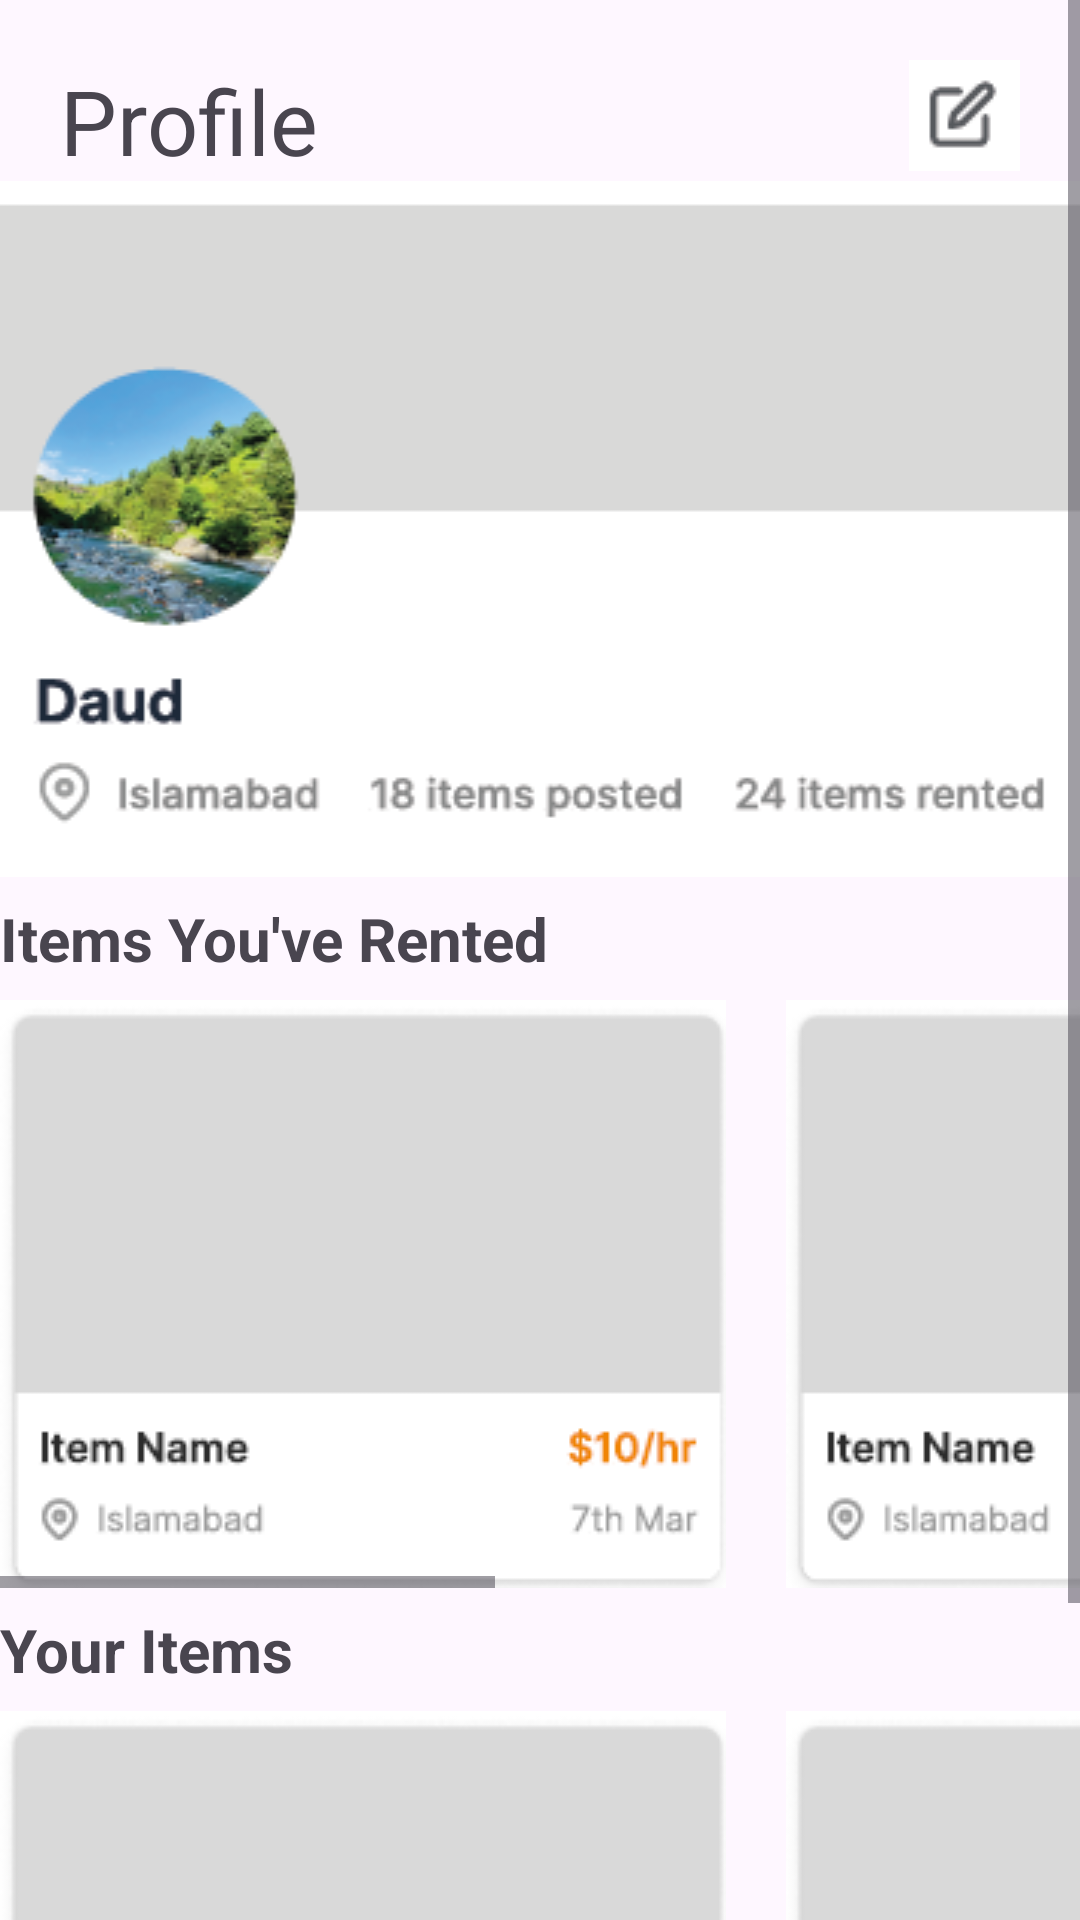

Where icons sit on this 1080 x 1920 app screen, as [x1,y1,x2,y2]:
editp: [929,80,997,148]
